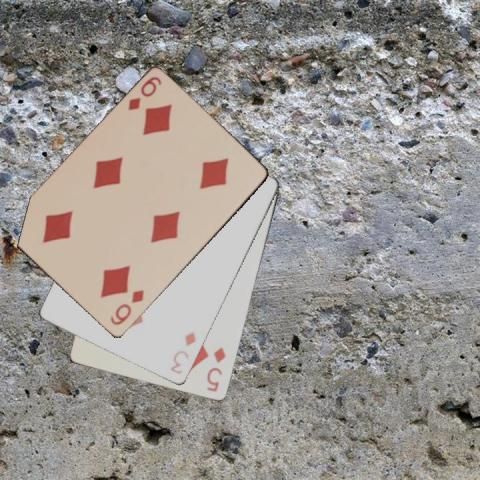3d: (167, 329, 198, 376)
5d: (204, 345, 227, 394)
6d: (107, 287, 146, 327), (125, 74, 163, 113)
